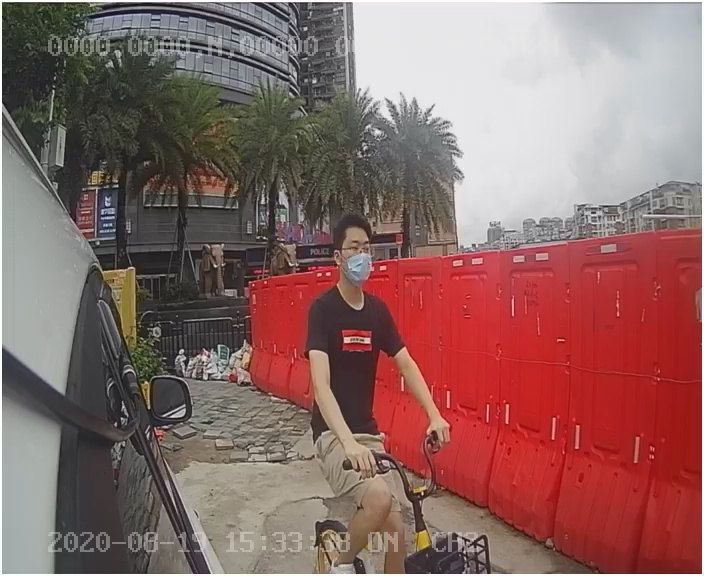person: (291, 219, 458, 497)
